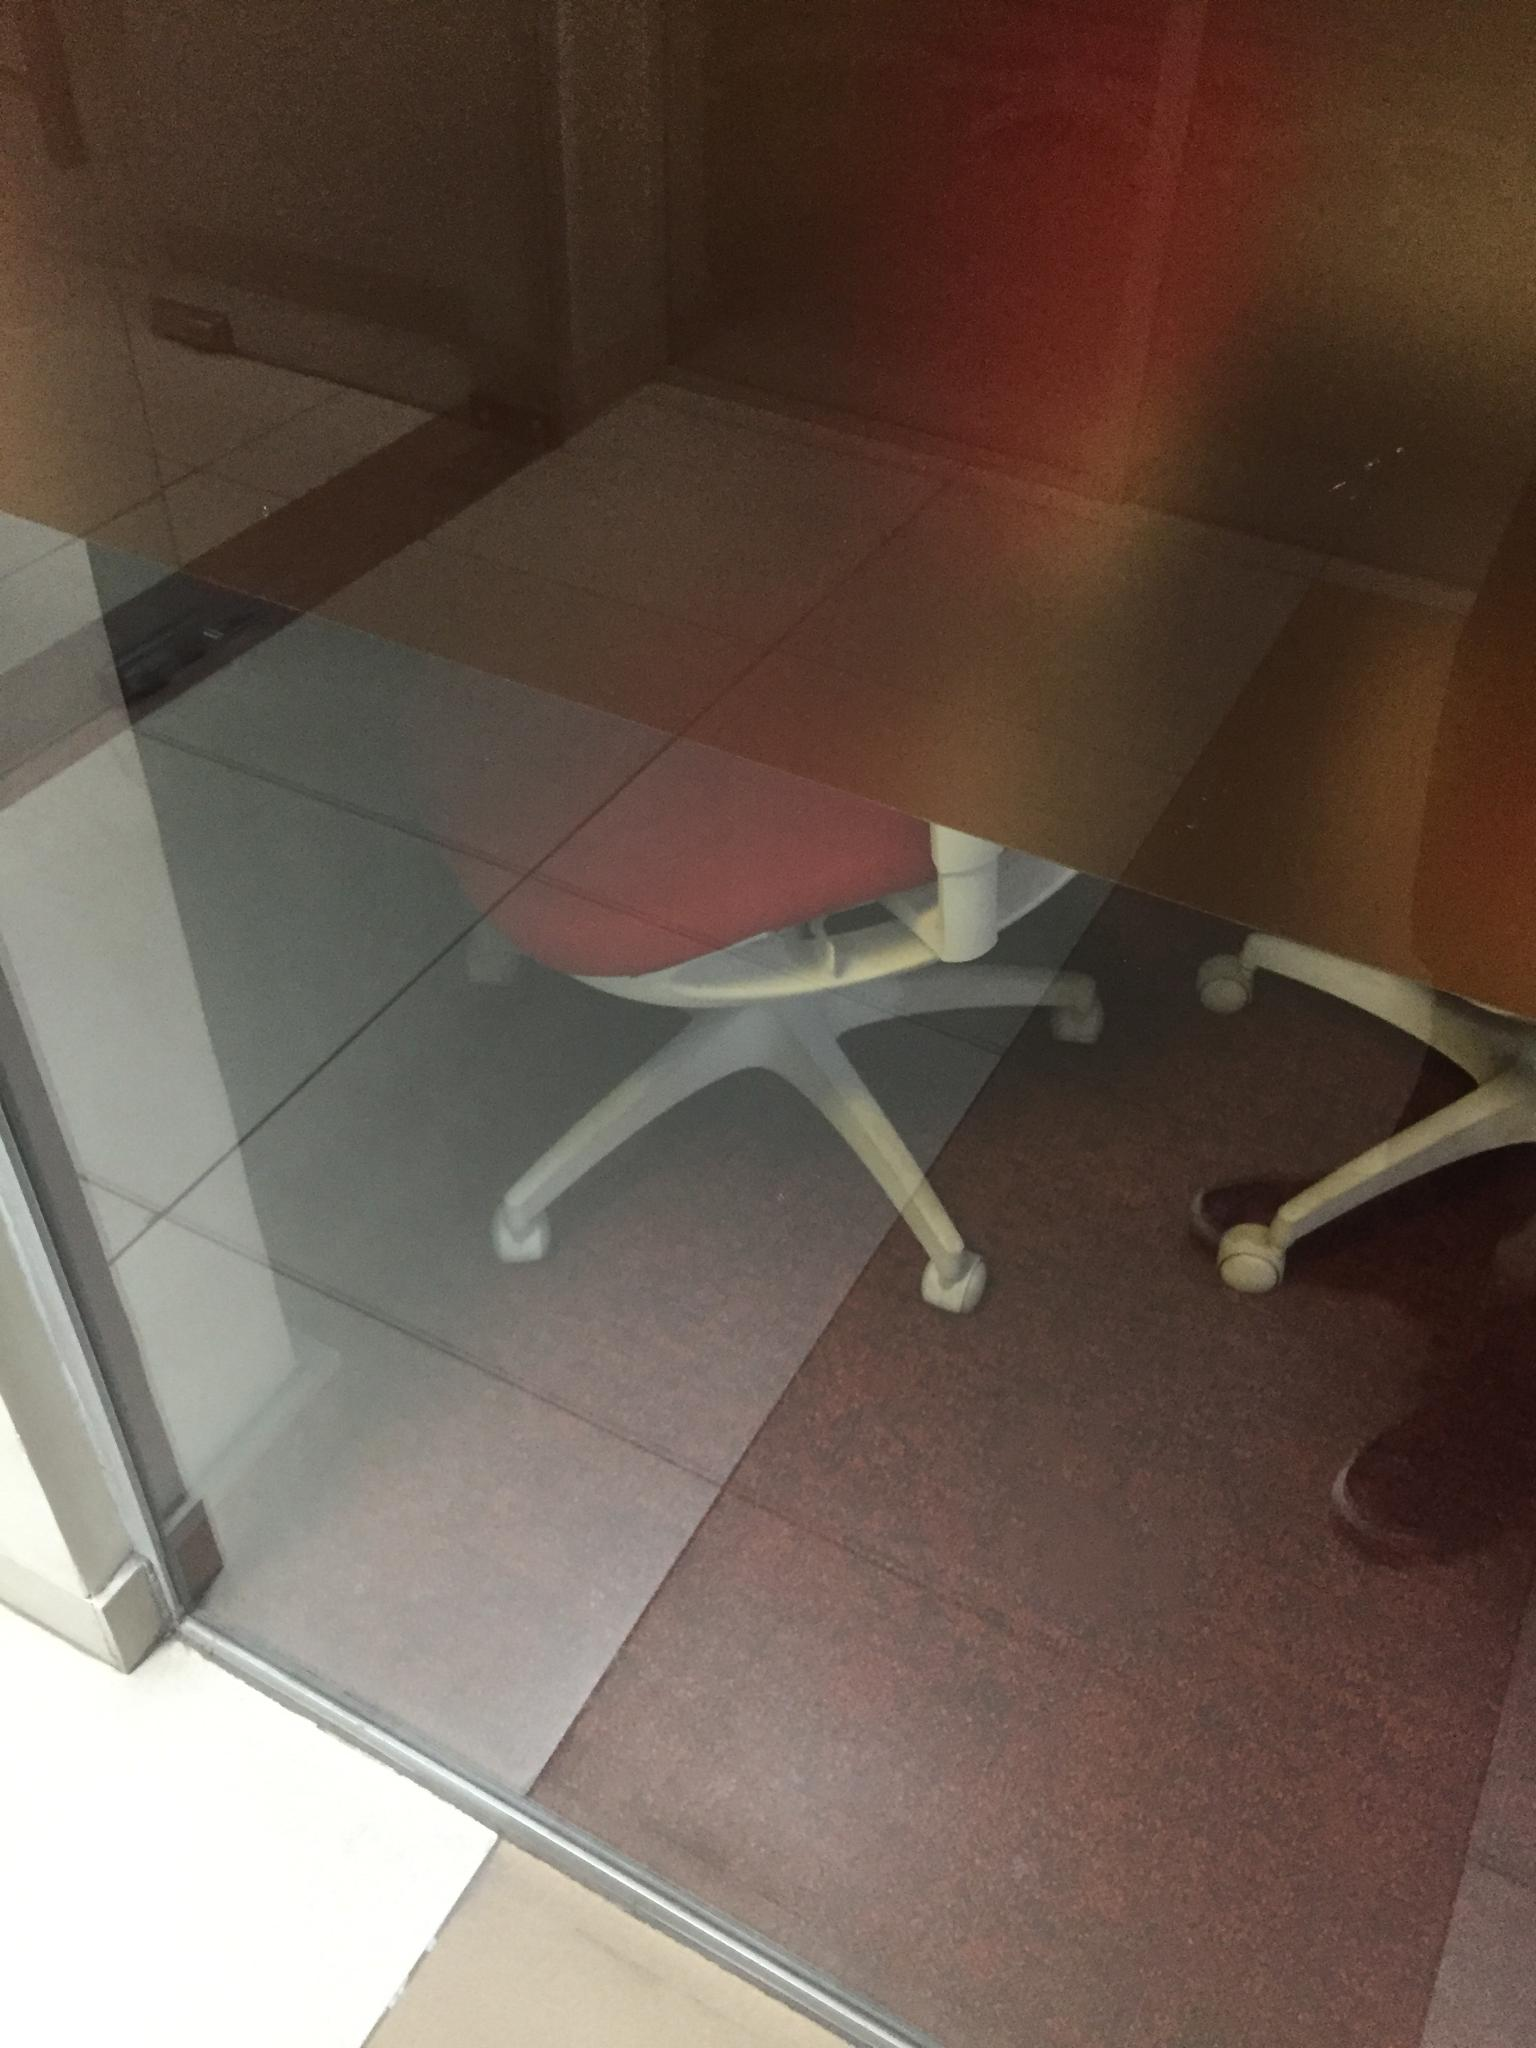chair: (240, 0, 1330, 1312), (1182, 504, 1522, 1350)
